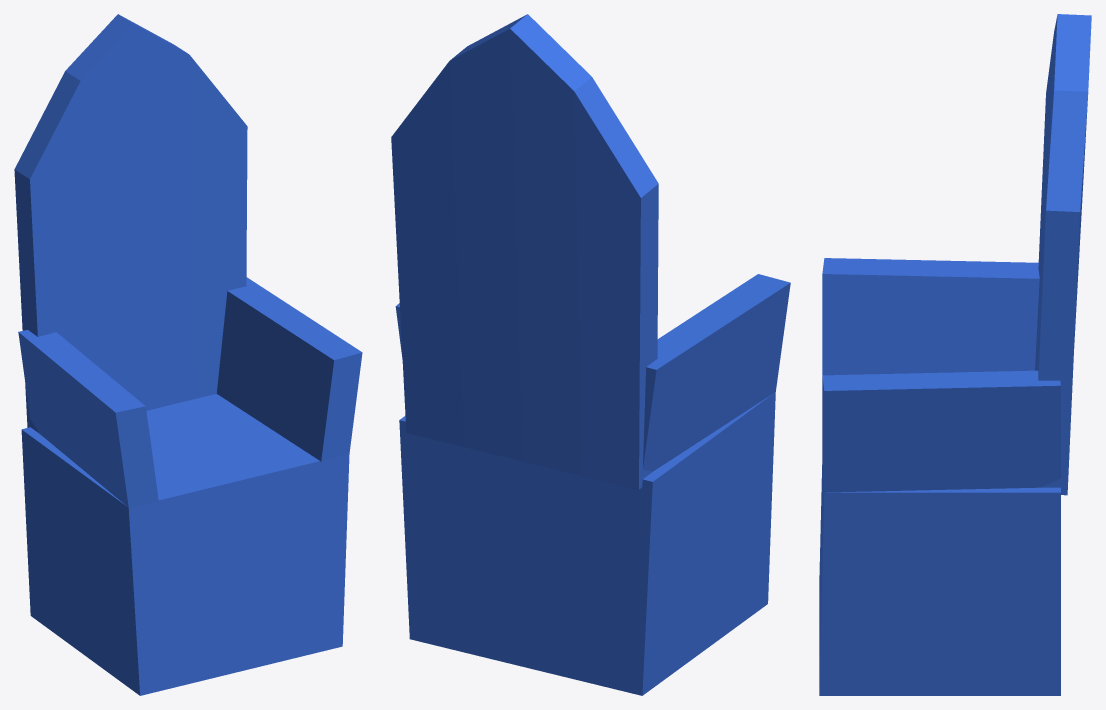
File: Collision_Chair_3.fbx
3 renders of one model, left to right at view 1: azimuth 30°, elevation 25°; view 2: azimuth 150°, elevation 25°; view 3: azimuth 270°, elevation 25°, orthographic. The views are drawn at different scales.
Parts seen in each view (by area): view 1: UCX_Chair_3_1, UCX_Chair_3_2, UCX_Chair_3_3, UCX_Chair_3_4; view 2: UCX_Chair_3_2, UCX_Chair_3_1, UCX_Chair_3_4; view 3: UCX_Chair_3_1, UCX_Chair_3_3, UCX_Chair_3_4, UCX_Chair_3_2.
Part boxes in pixels (x1,y1,x2,y2): UCX_Chair_3_1: (21, 394, 349, 695); UCX_Chair_3_2: (14, 14, 247, 433); UCX_Chair_3_3: (216, 277, 362, 461); UCX_Chair_3_4: (18, 330, 158, 507); UCX_Chair_3_2: (391, 14, 658, 489); UCX_Chair_3_1: (399, 392, 775, 695); UCX_Chair_3_4: (643, 274, 790, 471); UCX_Chair_3_1: (819, 465, 1060, 695); UCX_Chair_3_3: (822, 370, 1060, 492); UCX_Chair_3_4: (822, 258, 1039, 375); UCX_Chair_3_2: (1035, 14, 1091, 495).
Size of the model in its own units: 66.99 by 147 by 58.01.
